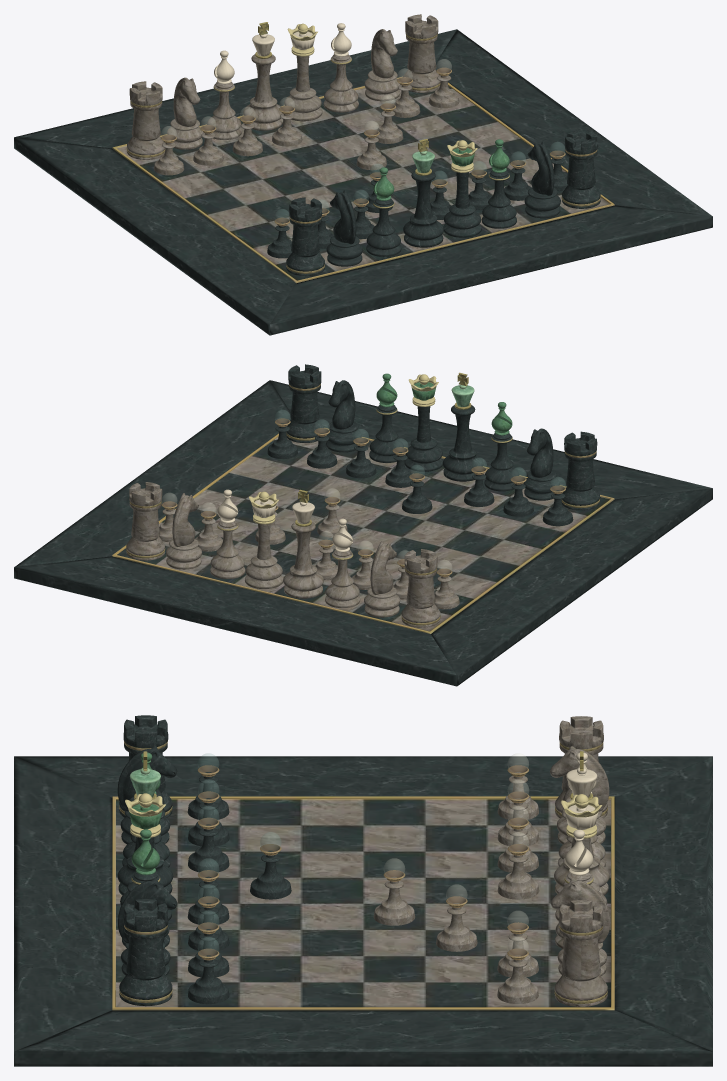
The model's file is chess.glb.
The picture shows the model from 3 angles, top to bottom: view 1: azimuth 30°, elevation 25°; view 2: azimuth 150°, elevation 25°; view 3: azimuth 270°, elevation 25°; orthographic projection. The views are drawn at different scales.
Visible parts, largest first — view 1: Chessboard, Pawn_Body_Shared (×13), Castle_B2, Castle_B1, Castle_W2, King_B, Castle_W1, Queen_B, King_W, Queen_W, Knight_W1, Knight_B1 (+6 smaller); view 2: Chessboard, Pawn_Body_Shared (×13), Castle_W2, Castle_W1, Castle_B1, King_W, Castle_B2, King_B, Queen_W, Queen_B, Knight_W2, Knight_W1 (+6 smaller); view 3: Chessboard, Pawn_Body_Shared (×16), Castle_W1, Castle_B2, Castle_B1, Castle_W2, Knight_B1, Knight_W2, King_W, King_B, Queen_B, Queen_W (+6 smaller).
Part boxes in pixels (x1,y1,x2,y2): Chessboard: [14, 29, 712, 335]; Pawn_Body_Shared (×13): [153, 67, 531, 258]; Castle_B2: [562, 130, 600, 208]; Castle_B1: [286, 197, 324, 276]; Castle_W2: [126, 81, 165, 159]; King_B: [403, 139, 443, 247]; Castle_W1: [403, 14, 440, 92]; Queen_B: [443, 140, 481, 237]; King_W: [243, 22, 283, 130]; Queen_W: [284, 23, 322, 121]; Knight_W1: [364, 29, 400, 101]; Knight_B1: [326, 190, 362, 266]; Chessboard: [14, 380, 712, 686]; Pawn_Body_Shared (×13): [195, 418, 573, 609]; Castle_W2: [401, 549, 440, 627]; Castle_W1: [126, 482, 165, 560]; Castle_B1: [561, 431, 599, 510]; King_W: [283, 489, 323, 598]; Castle_B2: [286, 364, 323, 442]; King_B: [442, 372, 483, 481]; Queen_W: [244, 491, 283, 588]; Queen_B: [404, 374, 442, 471]; Knight_W2: [364, 541, 400, 617]; Knight_W1: [166, 493, 201, 569]; Chessboard: [14, 756, 712, 1066]; Pawn_Body_Shared (×16): [187, 765, 539, 1004]; Castle_W1: [554, 900, 607, 1006]; Castle_B2: [119, 899, 172, 1006]; Castle_B1: [119, 715, 172, 817]; Castle_W2: [555, 716, 607, 818]; Knight_B1: [117, 746, 177, 844]; Knight_W2: [550, 746, 609, 844]; King_W: [554, 751, 609, 895]; King_B: [117, 751, 173, 895]; Queen_B: [120, 793, 171, 920]; Queen_W: [555, 794, 607, 920].
Bounding box in the file's own units: 0.7054 × 0.169 × 0.7054.
Materials: 15 (13 with a texture image).
